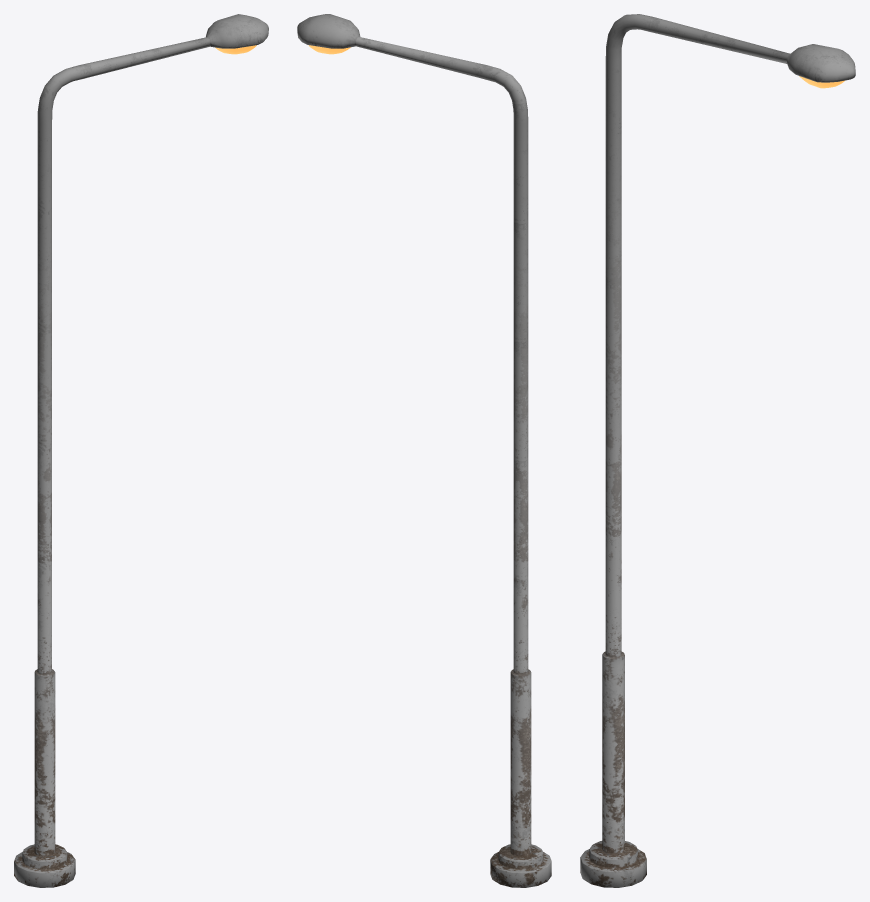
The model's file is street-light.glb.
The picture shows the model from 3 angles, left to right: view 1: azimuth 30°, elevation 25°; view 2: azimuth 150°, elevation 25°; view 3: azimuth 330°, elevation 25°; orthographic projection. The views are drawn at different scales.
Visible parts, largest first — view 1: polySurface132.001_Material.004_0; view 2: polySurface132.001_Material.004_0; view 3: polySurface132.001_Material.004_0.
Part boxes in pixels (x1,y1,x2,y2): polySurface132.001_Material.004_0: (14, 14, 268, 887); polySurface132.001_Material.004_0: (297, 14, 551, 887); polySurface132.001_Material.004_0: (580, 14, 855, 887).
Size of the model in its own units: 4.6 by 14.25 by 0.9612.
Materials: 2 (1 with a texture image).
